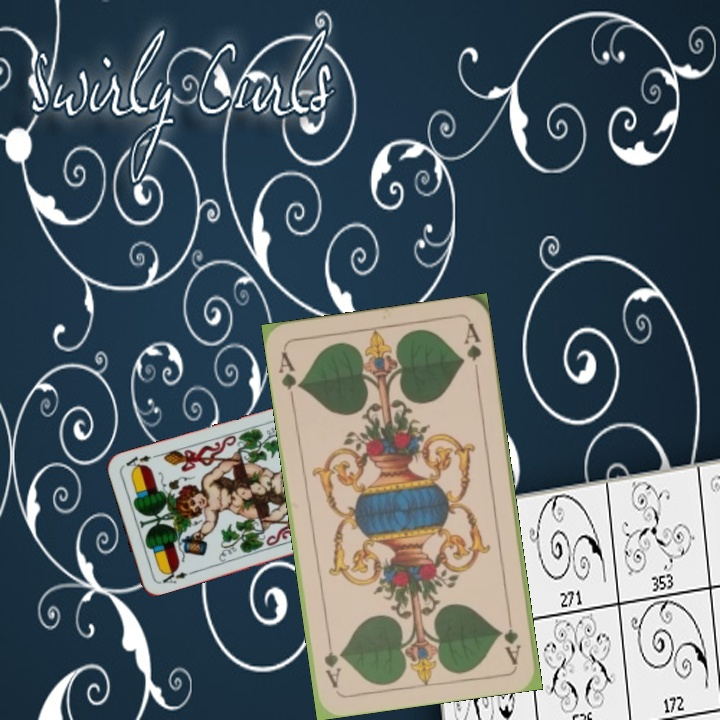EA: (155, 565, 190, 586)
GA: (274, 347, 304, 405), (499, 607, 523, 667)
